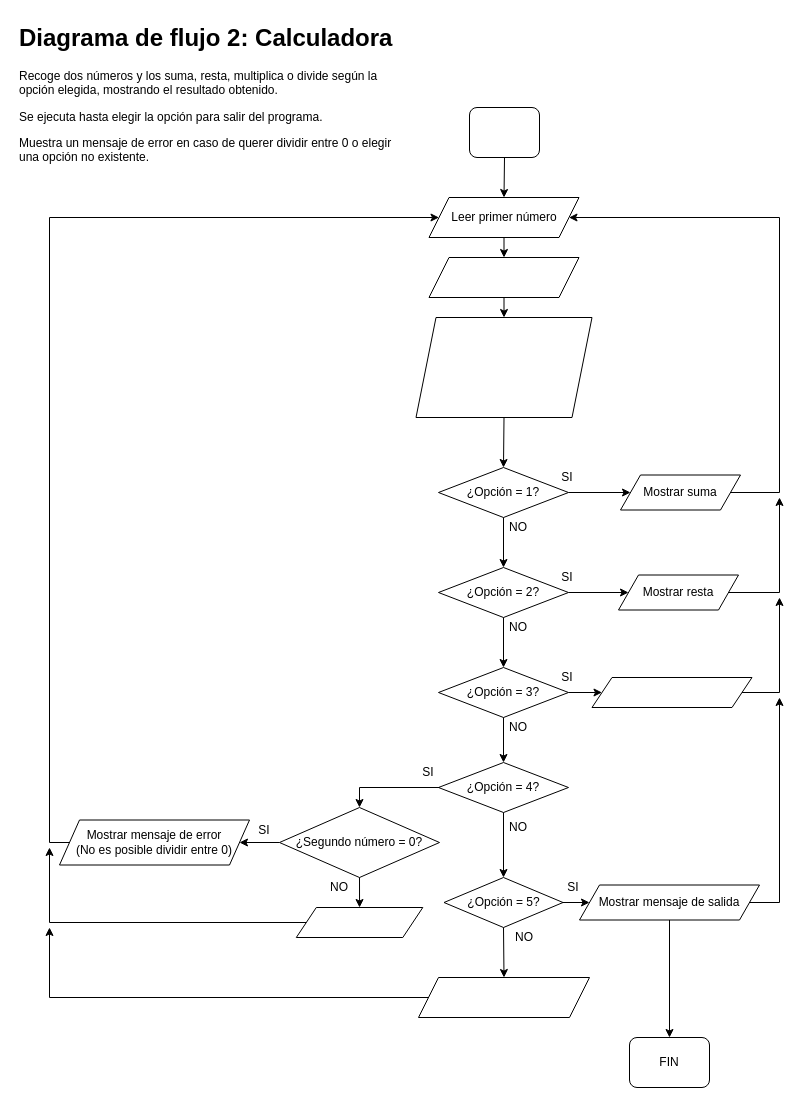
Some shapes in this 805 by 1105 pixel diagram are drawn without their labels. Each missing label, with the centre of its shape:
INICIO: point 504,132
Leer opción 1 - suma 2 - resta 3 - multiplicación 4 - división 5 - salir: point 503,367
Leer segundo número: point 503,277
Mostrar división: point 359,922
Mostrar mensaje de error (Opción incorrecta): point 504,997
Mostrar multiplicación: point 671,692
